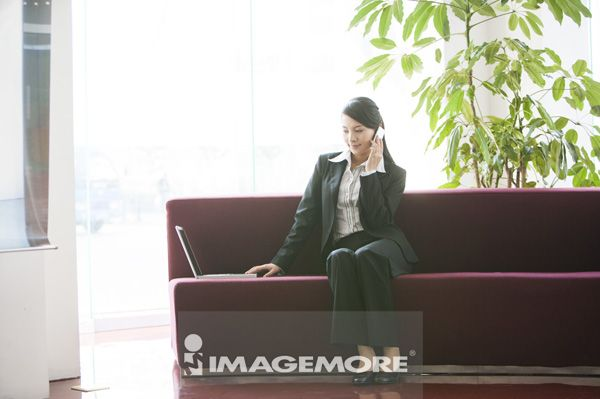phone: (371, 125, 385, 151)
talk: (342, 121, 386, 171)
